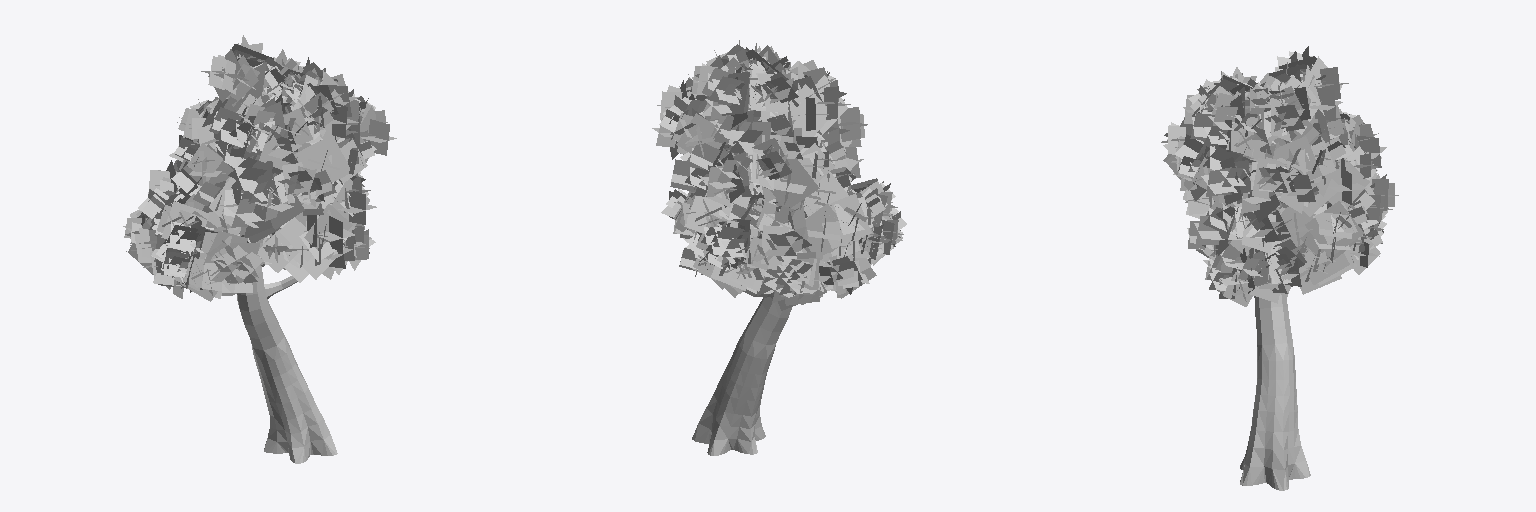
File: TallThick_3.obj
3 views of the same model, side by side, from view 1: azimuth 30°, elevation 25°; view 2: azimuth 150°, elevation 25°; view 3: azimuth 270°, elevation 25° (orthographic).
Parts seen in each view (by area): view 1: TallThick_3; view 2: TallThick_3; view 3: TallThick_3.
Boxes of the visible parts, x1=… form: TallThick_3: x1=123, y1=35, x2=396, y2=463; TallThick_3: x1=652, y1=40, x2=906, y2=455; TallThick_3: x1=1161, y1=46, x2=1398, y2=490.
Size of the model in its own units: 9.24 by 15.29 by 8.43.